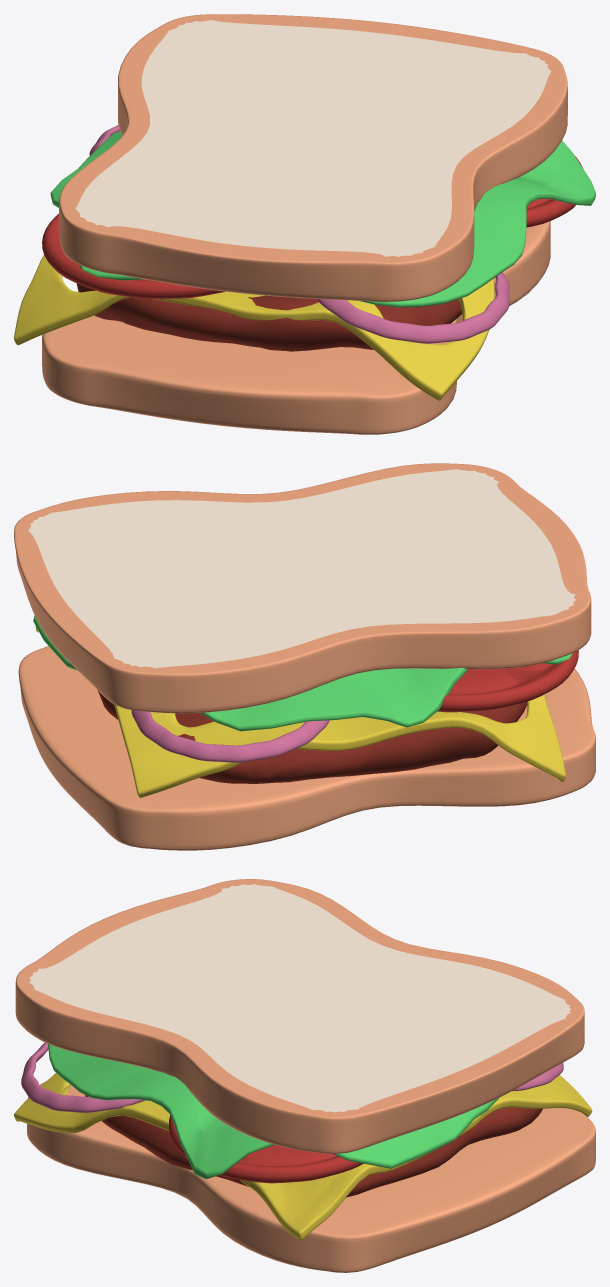
The picture shows the model from 3 angles, top to bottom: view 1: azimuth 30°, elevation 25°; view 2: azimuth 150°, elevation 25°; view 3: azimuth 270°, elevation 25°; orthographic projection. The views are drawn at different scales.
Parts seen in each view (by area): view 1: Cube.001, Cube, Plane.001, Plane.003, Circle.001, Circle.007, Circle.004, Circle.008; view 2: Cube.001, Cube, Plane.001, Circle.001, Plane.003, Circle.004, Circle.009; view 3: Cube.001, Cube, Circle.001, Plane.001, Plane.003, Circle.008, Circle.007.
Boxes of the visible parts, x1=… form: Cube.001: x1=59, y1=14, x2=567, y2=301; Cube: x1=42, y1=221, x2=550, y2=434; Plane.001: x1=14, y1=255, x2=494, y2=400; Plane.003: x1=76, y1=283, x2=462, y2=351; Circle.001: x1=50, y1=131, x2=595, y2=307; Circle.007: x1=317, y1=272, x2=509, y2=343; Circle.004: x1=42, y1=214, x2=224, y2=299; Circle.008: x1=526, y1=155, x2=582, y2=227; Cube.001: x1=14, y1=463, x2=591, y2=713; Cube: x1=18, y1=646, x2=595, y2=850; Plane.001: x1=35, y1=626, x2=565, y2=797; Circle.001: x1=33, y1=615, x2=572, y2=731; Plane.003: x1=97, y1=690, x2=527, y2=783; Circle.004: x1=437, y1=650, x2=578, y2=712; Circle.009: x1=131, y1=710, x2=329, y2=762; Cube.001: x1=15, y1=879, x2=584, y2=1153; Cube: x1=27, y1=1081, x2=595, y2=1272; Circle.001: x1=48, y1=1044, x2=498, y2=1179; Plane.001: x1=14, y1=1073, x2=592, y2=1239; Plane.003: x1=85, y1=1095, x2=542, y2=1197; Circle.008: x1=169, y1=1115, x2=363, y2=1183; Circle.007: x1=21, y1=1042, x2=145, y2=1112.
Bounding box in the file's own units: 4.17 × 1.27 × 4.11.
